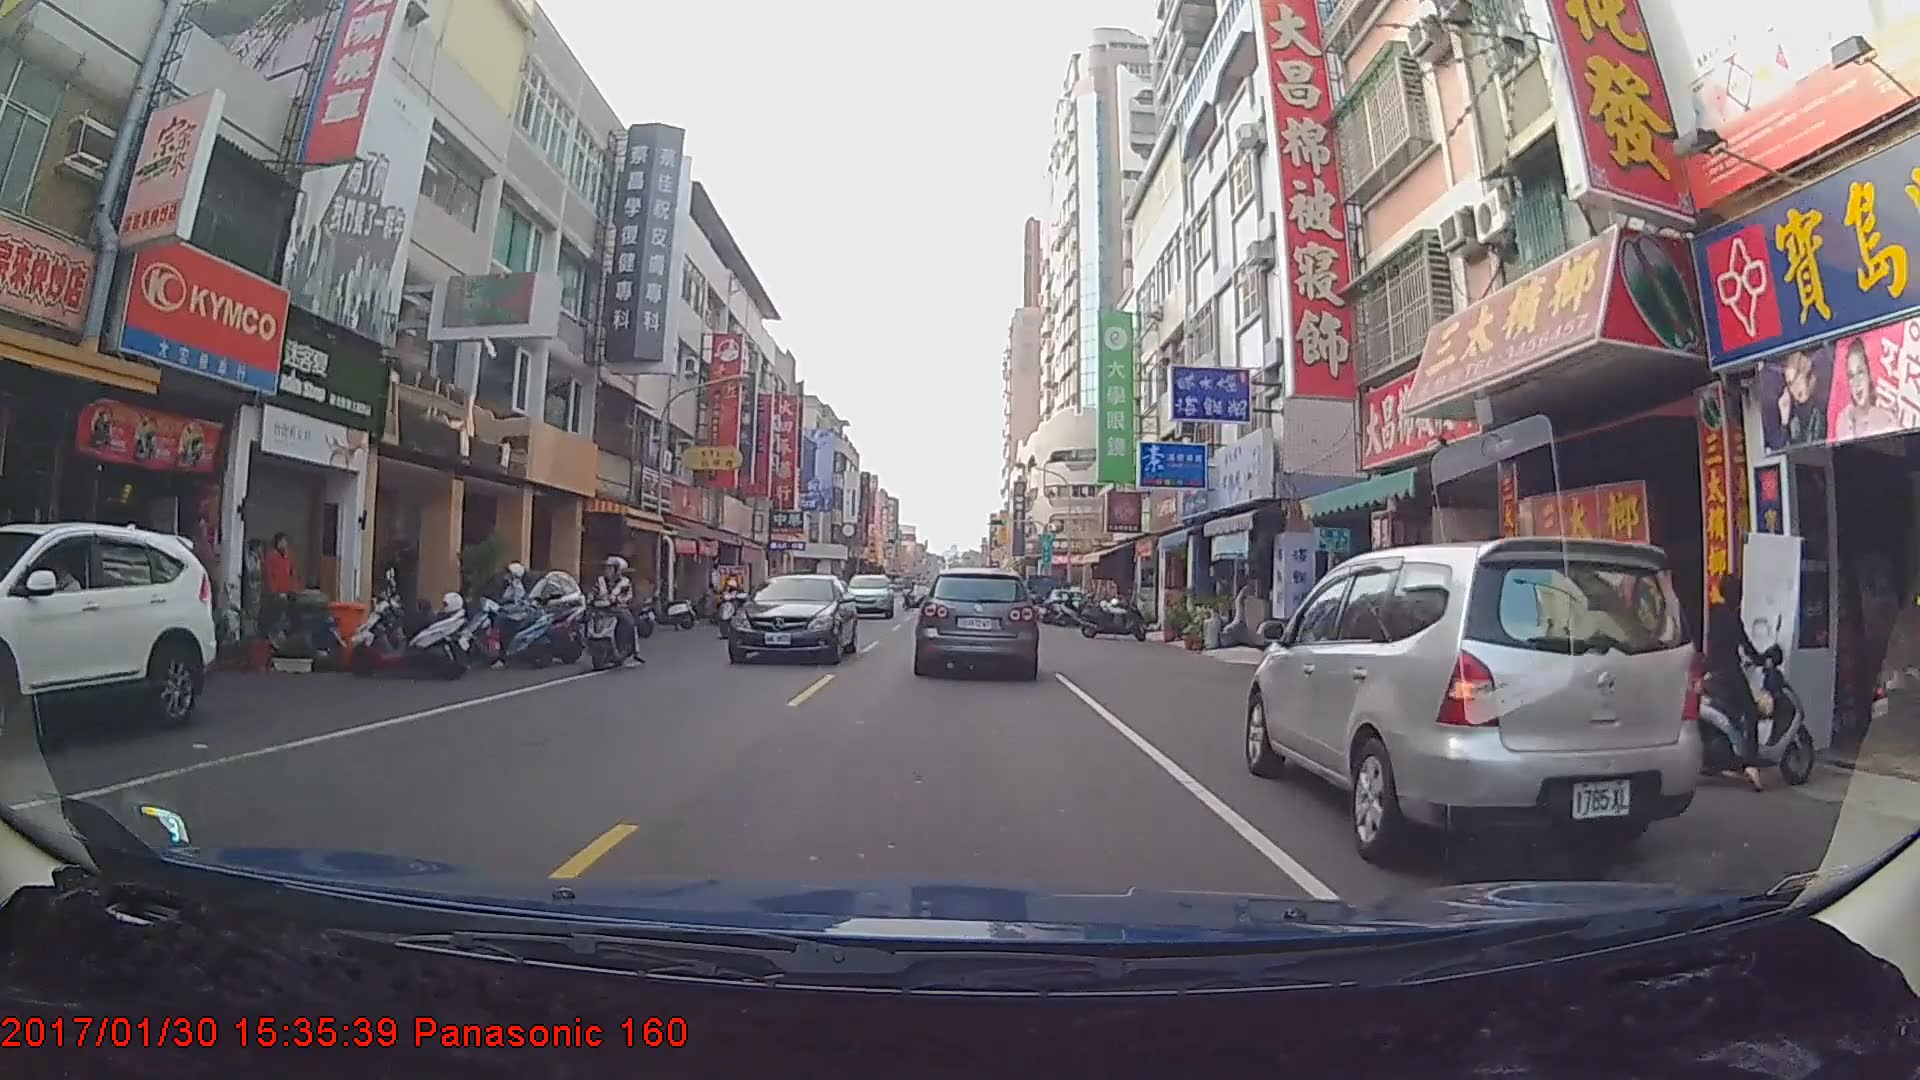pedestrian: (259, 527, 305, 639), (237, 529, 266, 629)
rider: (1628, 569, 1834, 801), (581, 549, 647, 672)
vehicle: (1242, 533, 1698, 870), (0, 518, 215, 756), (916, 565, 1037, 677), (729, 572, 855, 665), (842, 571, 894, 617)
